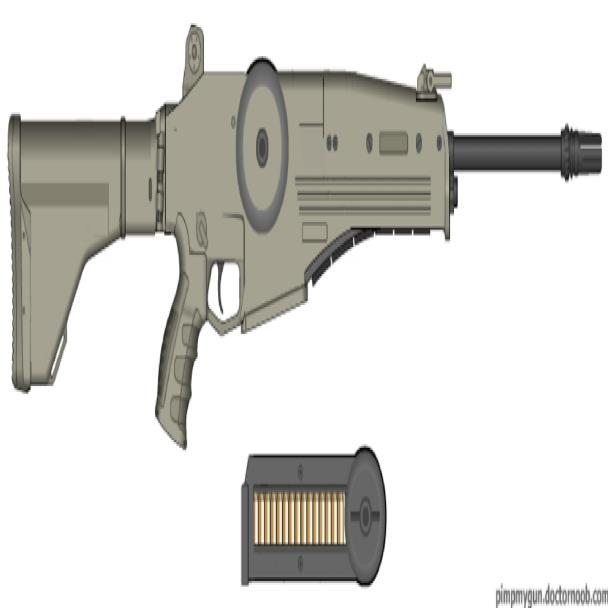Gun: (8, 21, 590, 467)
